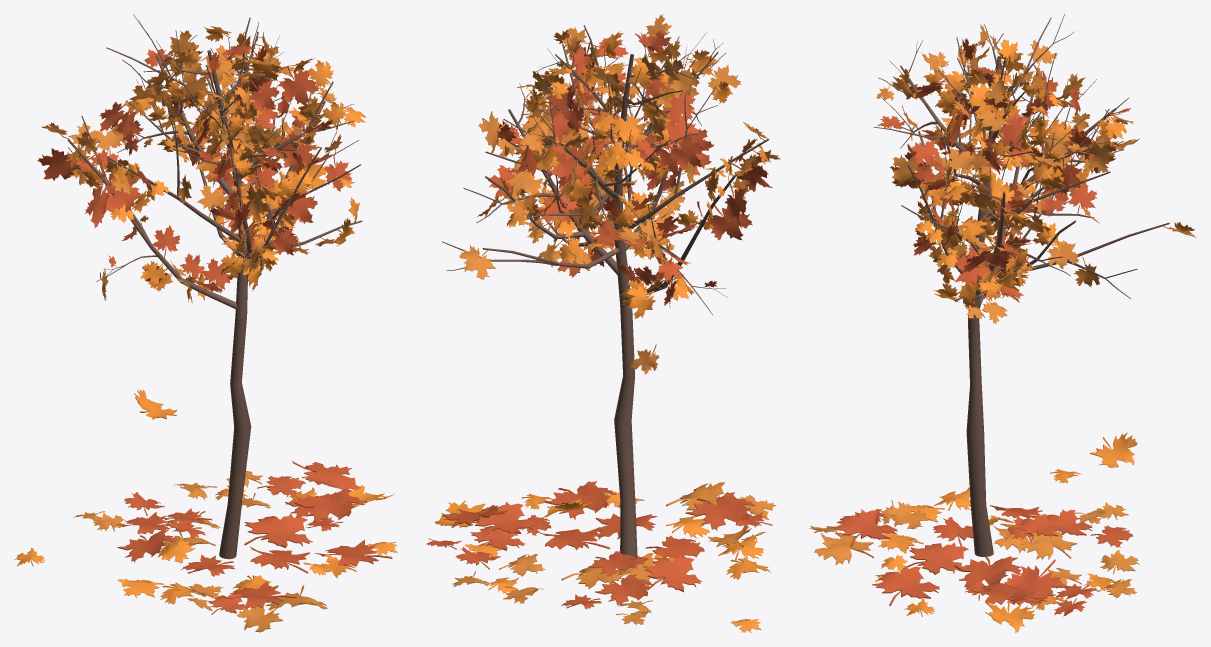
Rendered from arbol_arce_otono.glb.
3 renders of one model, left to right at view 1: azimuth 30°, elevation 25°; view 2: azimuth 150°, elevation 25°; view 3: azimuth 270°, elevation 25°, orthographic. The views are drawn at different scales.
Visible parts, largest first — view 1: red, yellow, orange, tree; view 2: red, orange, yellow, tree; view 3: red, orange, yellow, tree.
Part boxes in pixels (left/top/right/bottom): red: left=37, top=39, right=392, bottom=614; yellow: left=14, top=26, right=397, bottom=604; orange: left=42, top=30, right=343, bottom=632; tree: left=67, top=14, right=362, bottom=559; red: left=426, top=30, right=772, bottom=609; orange: left=452, top=14, right=780, bottom=625; yellow: left=434, top=29, right=771, bottom=632; tree: left=442, top=25, right=769, bottom=557; red: left=831, top=38, right=1133, bottom=616; orange: left=809, top=24, right=1196, bottom=598; yellow: left=875, top=39, right=1137, bottom=632; tree: left=873, top=14, right=1169, bottom=556.
Size of the model in its own units: 0.6793 by 0.9945 by 0.6739.
